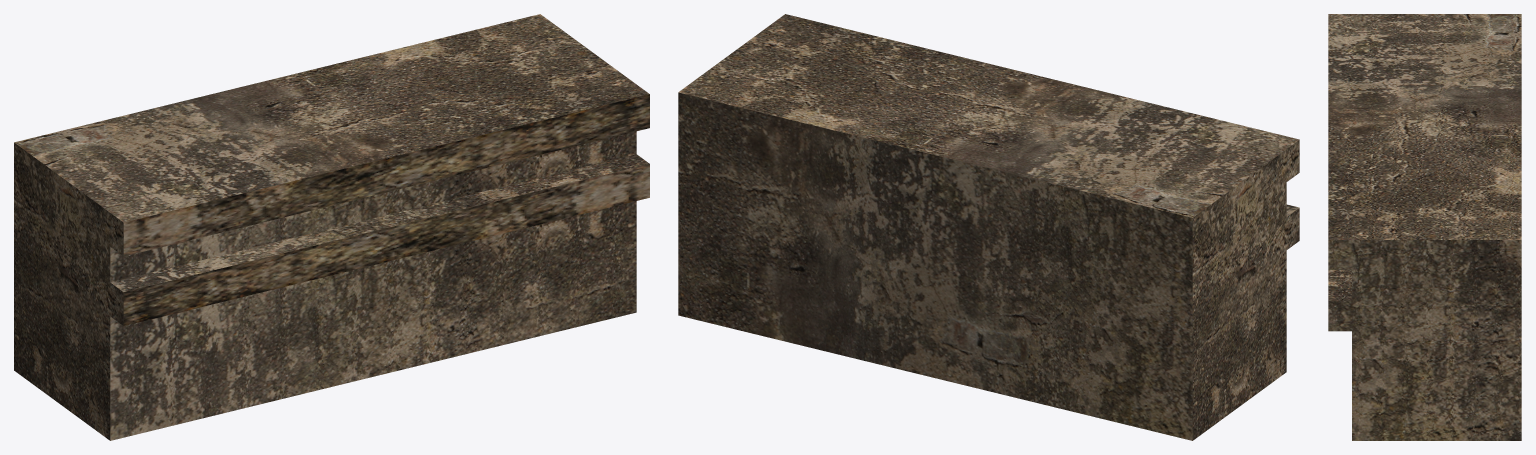
File: materials_5_stonestick_short_8.fbx
3 renders of one model, left to right at view 1: azimuth 30°, elevation 25°; view 2: azimuth 150°, elevation 25°; view 3: azimuth 270°, elevation 25°, orthographic. The views are drawn at different scales.
Visible parts, largest first — view 1: materials_5_stonestick_short_8; view 2: materials_5_stonestick_short_8; view 3: materials_5_stonestick_short_8.
Part boxes in pixels (x1,y1,x2,y2): materials_5_stonestick_short_8: (14, 14, 649, 440); materials_5_stonestick_short_8: (678, 14, 1299, 440); materials_5_stonestick_short_8: (1328, 14, 1521, 440).
Bounding box in the file's own units: 123 × 50.87 × 44.3.
